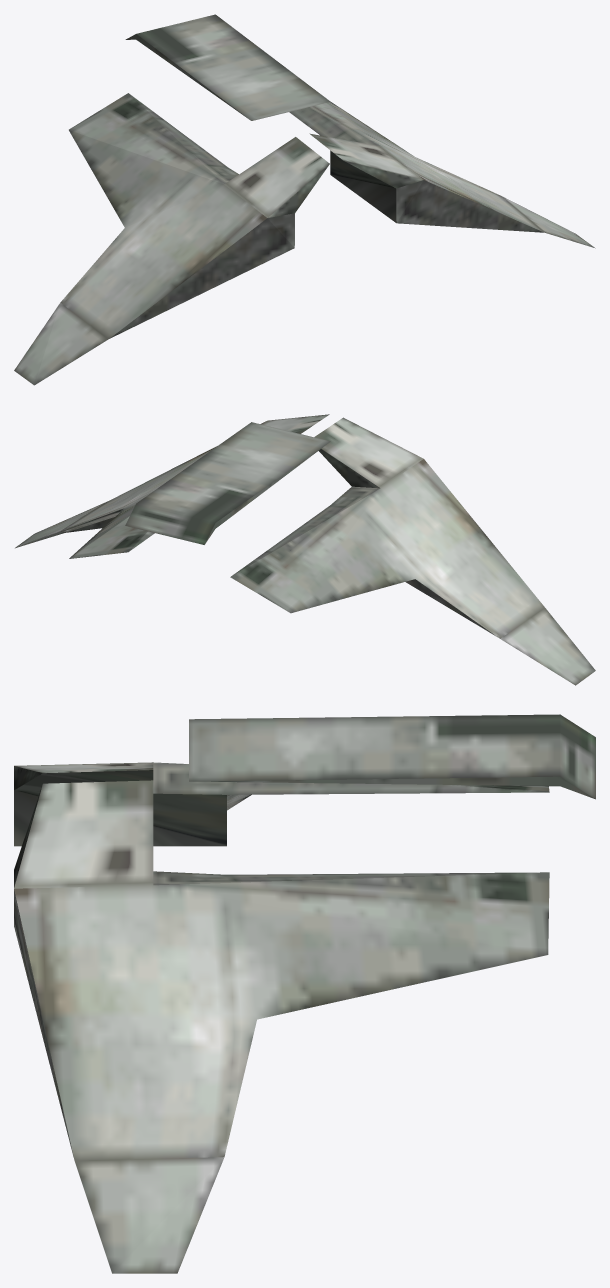
File: black_sun_fighter_heavy_struct_s02_l3.fbx
The picture shows the model from 3 angles, top to bottom: view 1: azimuth 30°, elevation 25°; view 2: azimuth 150°, elevation 25°; view 3: azimuth 270°, elevation 25°; orthographic projection. The views are drawn at different scales.
Visible parts, largest first — view 1: mesh_node; view 2: mesh_node; view 3: mesh_node.
Boxes of the visible parts, x1,y1,x2,y2 form: mesh_node: (14, 14, 595, 385); mesh_node: (15, 414, 595, 685); mesh_node: (14, 714, 595, 1273).
Size of the model in its own units: 20.67 by 6.72 by 11.52.
1 material, 1 textured.
